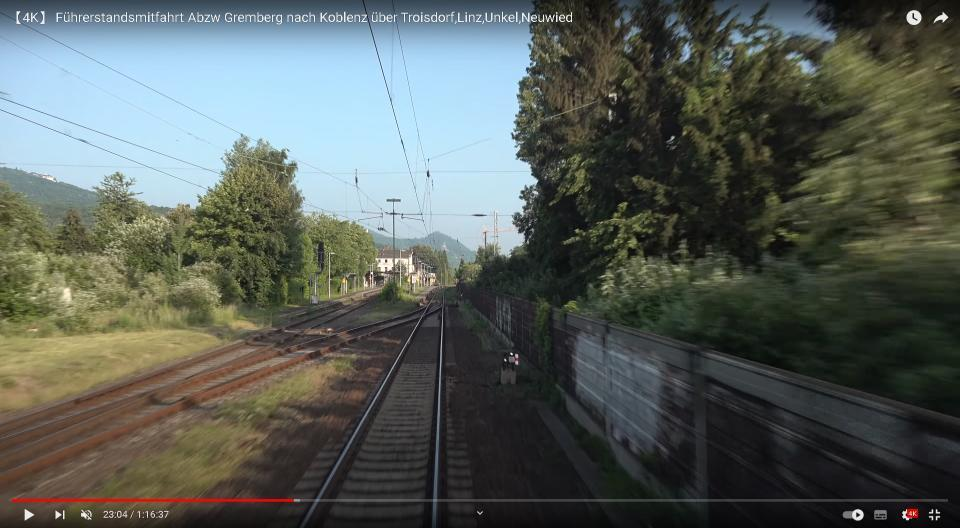Plant: (88, 355, 354, 497)
